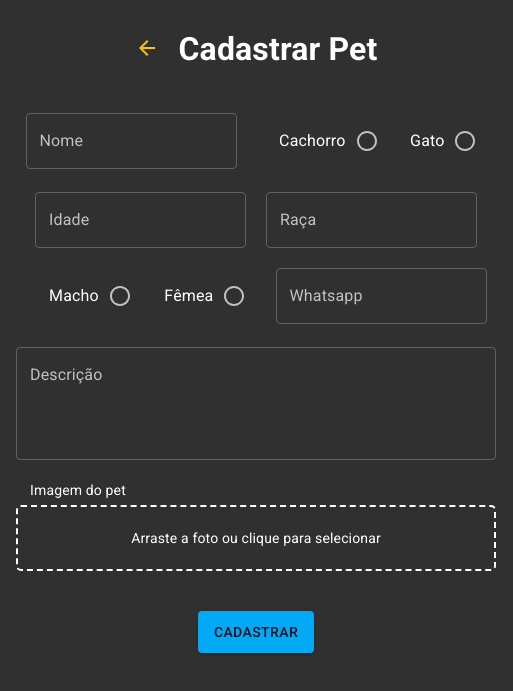
Test: Add pet page (direct interaction) › should not allow users to register a pet without a type
This screenshot has width=513, height=691.
Expected: the text "Campo obrigatório" is not shown
Type "Teste" into the element with test id "name" at {"x": 132, "y": 143}, box 26,113 -> 237,172
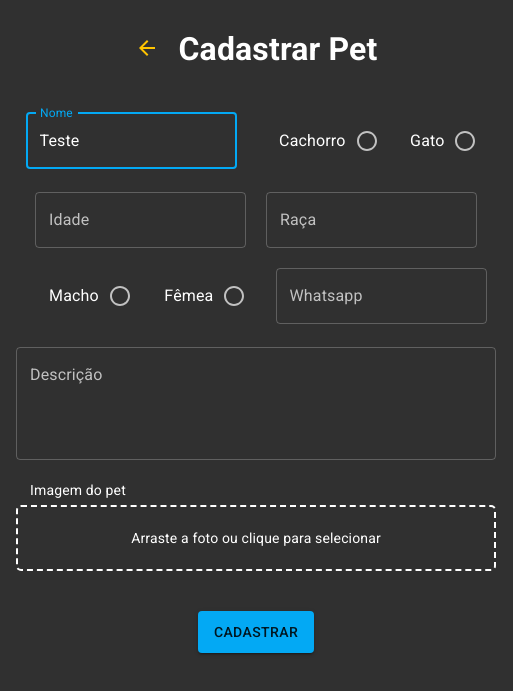
Type "10" into the element with test id "age" at {"x": 141, "y": 220}, box 35,192 -> 246,248
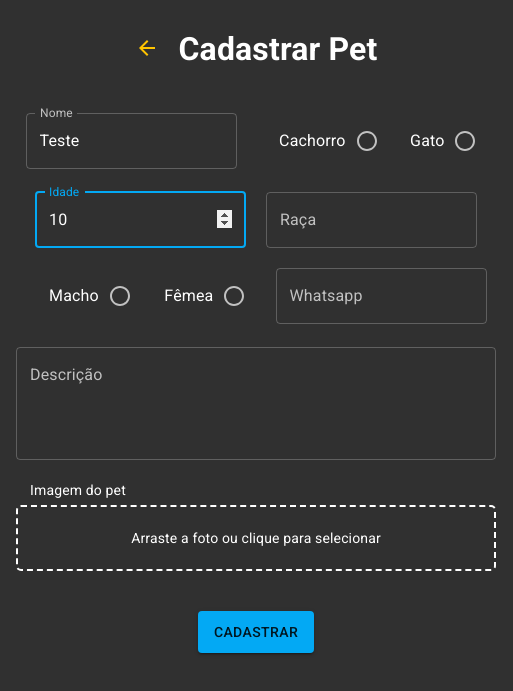
Type "Pastor alemão" into the element with test id "breed" at {"x": 372, "y": 220}, box 266,192 -> 477,248
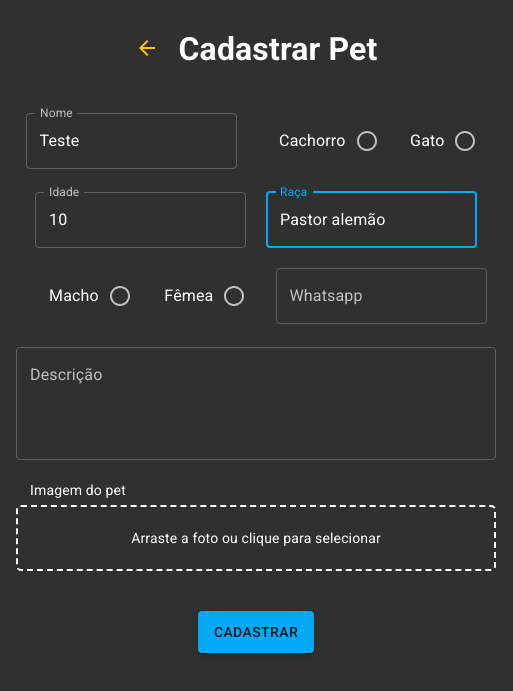
Click the icon with test id "sex-male" at {"x": 120, "y": 296}, box 108,284 -> 132,308
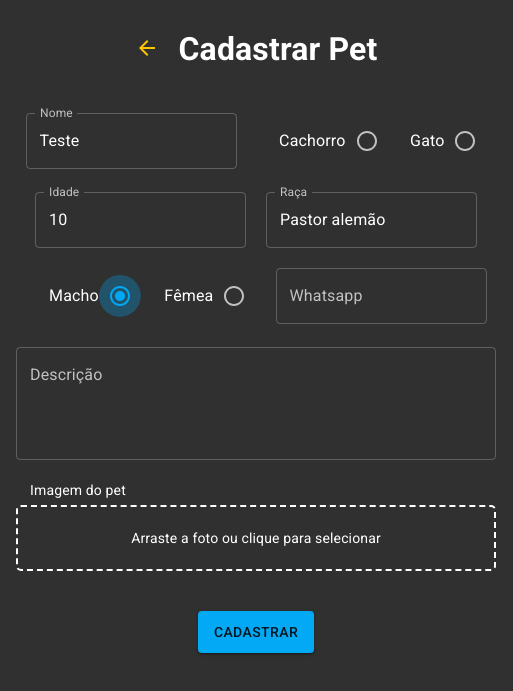
Type "83996481242" into the element with test id "phone" at {"x": 382, "y": 298}, box 276,268 -> 487,327
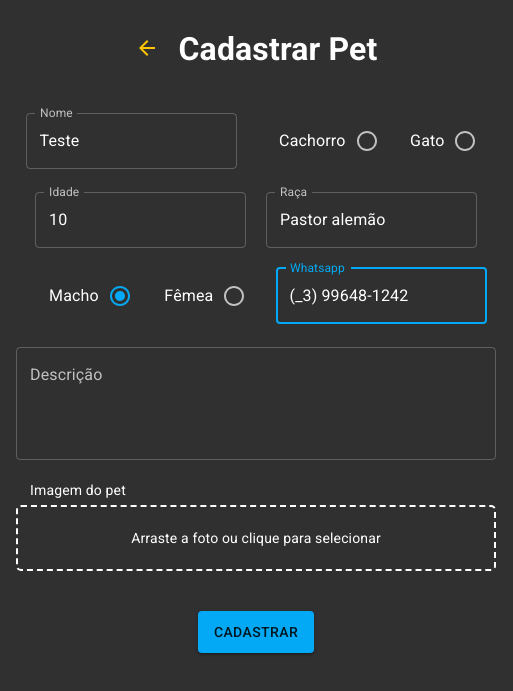
Click the button with test id "submit-button" at {"x": 256, "y": 632}, box 198,611 -> 314,653
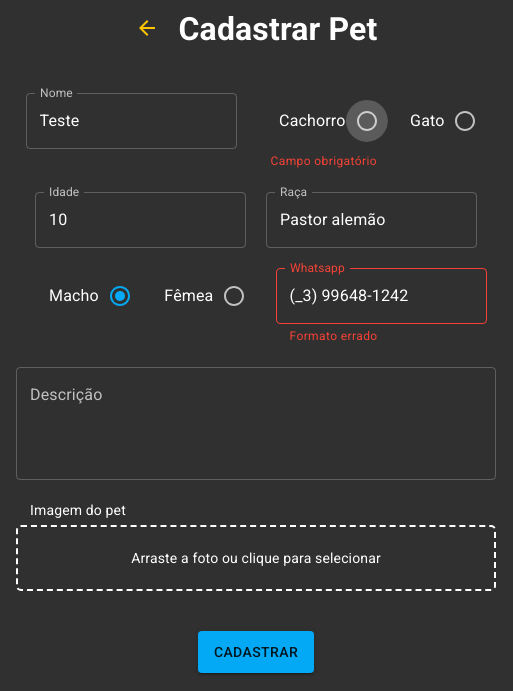
Now the text "Campo obrigatório" is shown, box 270,154 -> 377,168
